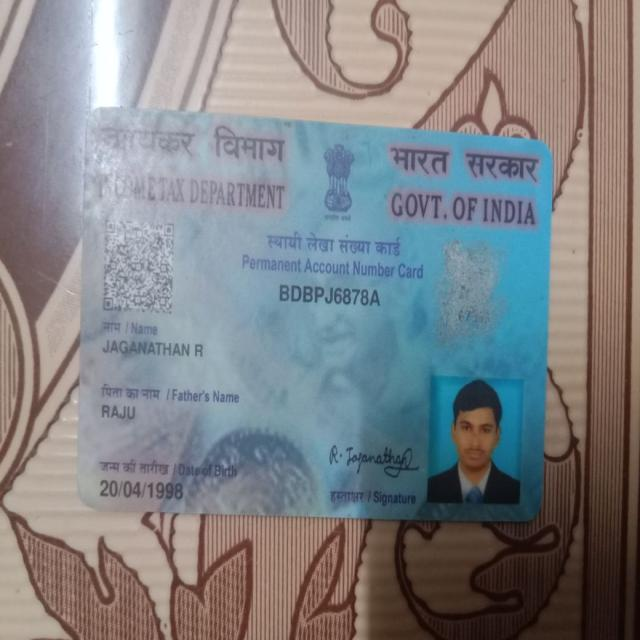pan_card: (76, 106, 554, 517)
